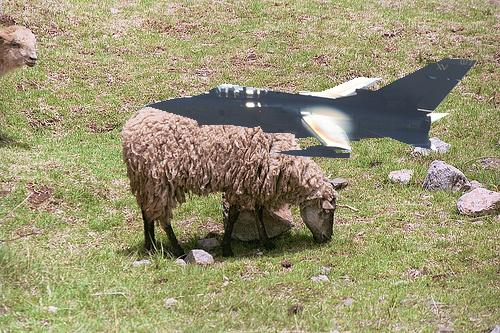tampered: (131, 59, 476, 158)
